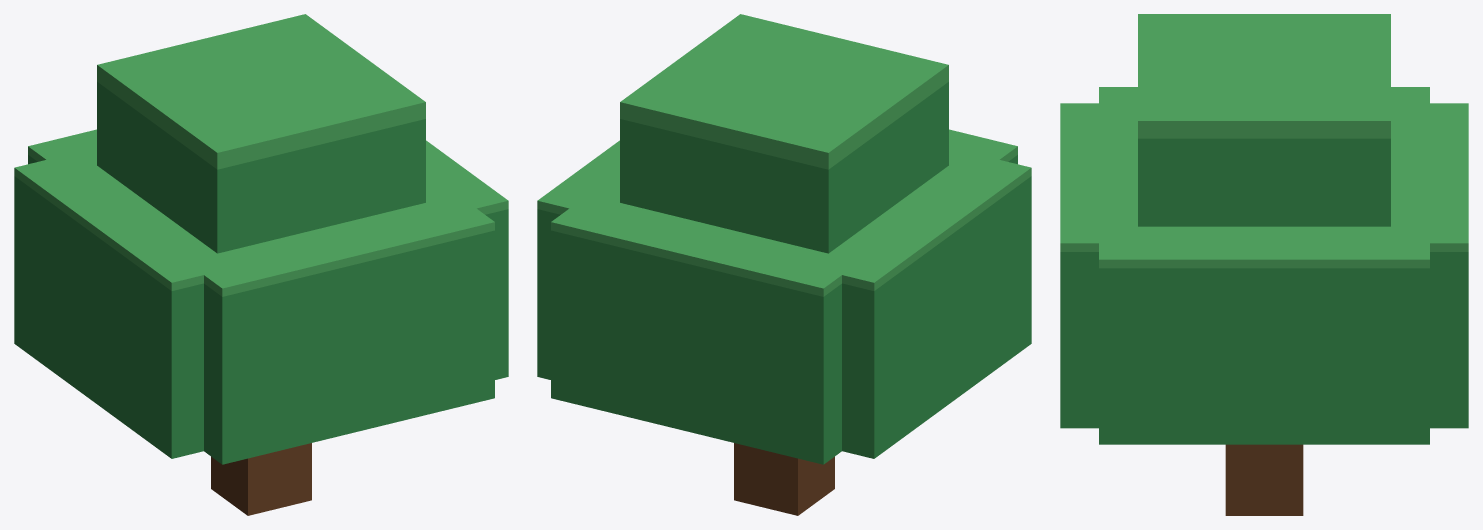
Rendered from deco_tree_round_cool.glb.
The picture shows the model from 3 angles, left to right: view 1: azimuth 30°, elevation 25°; view 2: azimuth 150°, elevation 25°; view 3: azimuth 270°, elevation 25°; orthographic projection. The views are drawn at different scales.
Visible parts, largest first — view 1: model_0; view 2: model_0; view 3: model_0.
Part boxes in pixels (x1,y1,x2,y2): model_0: (14, 14, 508, 515); model_0: (537, 14, 1031, 515); model_0: (1060, 14, 1468, 515).
Size of the model in its own units: 1.68 by 1.96 by 1.68.
